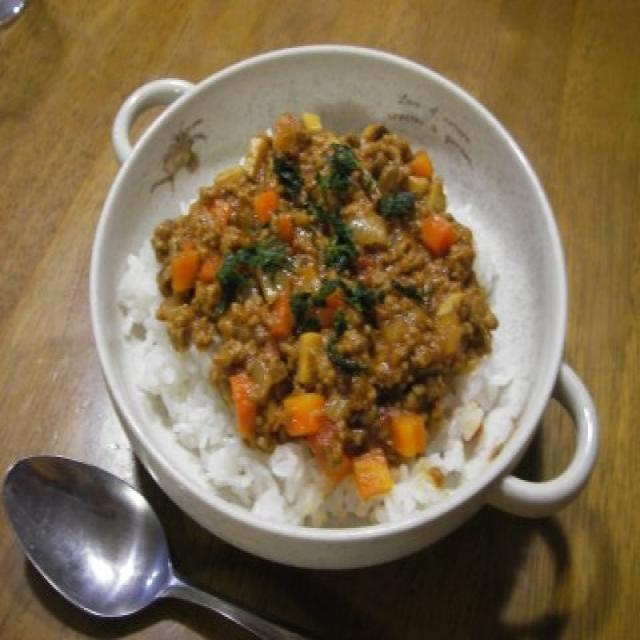蛋糕甜品: (0, 40, 640, 632)
